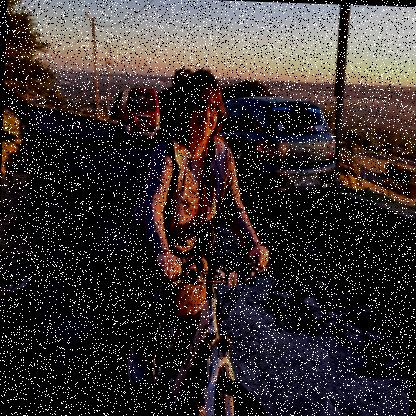Car: (207, 92, 338, 204)
